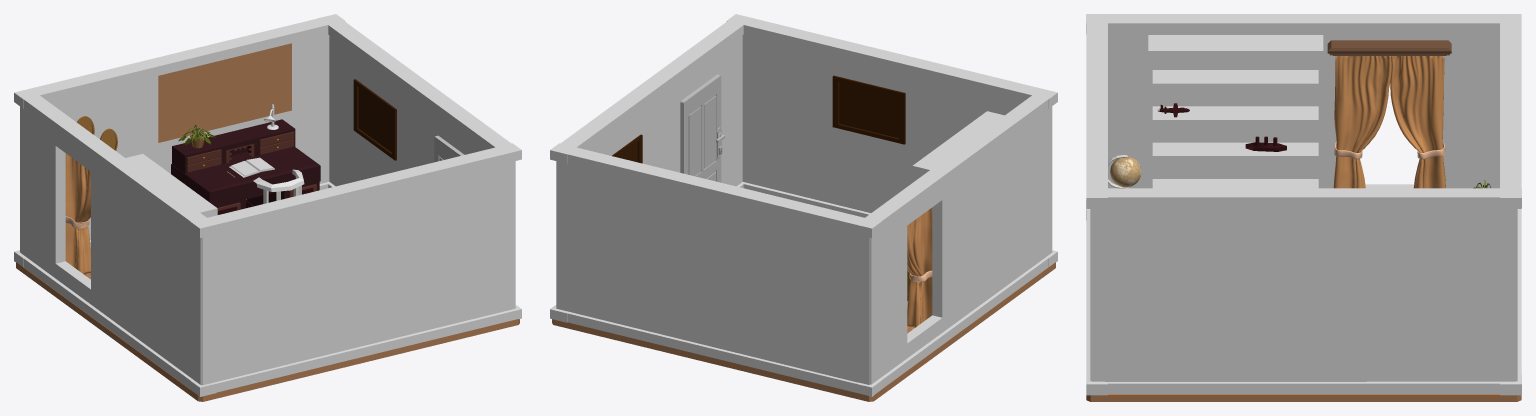
File: 6th_Room.fbx
3 views of the same model, side by side, from view 1: azimuth 30°, elevation 25°; view 2: azimuth 150°, elevation 25°; view 3: azimuth 270°, elevation 25° (orthographic). The views are drawn at different scales.
Parts seen in each view (by area): view 1: 6_Wall4, 6_Wall1, 6_Wall2, 6_Wall3, 6_map, 6_desk, 6_Floor, 6_Curtains, 6_picFrame 4, 6_bookshelf, 6_chair, 6_book (+2 smaller); view 2: 6_Wall2, 6_Wall4, 6_Wall1, 6_Wall3, 6_picFrame 3, 6_Door, 6_Floor, 6_Curtains, 6_bookshelf, 6_picFrame 4; view 3: 6_Wall3, 6_bookshelf, 6_Wall1, 6_Curtains, 6_Wall2, 6_Wall4, 6_Floor, 6_globe, 6_ship.
Part boxes in pixels (x1=…): 6_Wall4: x1=190, y1=143, x2=521, y2=396; 6_Wall1: x1=14, y1=88, x2=216, y2=396; 6_Wall2: x1=14, y1=14, x2=345, y2=267; 6_Wall3: x1=328, y1=21, x2=511, y2=187; 6_map: x1=158, y1=43, x2=291, y2=142; 6_desk: x1=171, y1=119, x2=320, y2=214; 6_Floor: x1=16, y1=249, x2=519, y2=401; 6_Curtains: x1=65, y1=153, x2=90, y2=275; 6_picFrame 4: x1=353, y1=79, x2=396, y2=160; 6_bookshelf: x1=126, y1=154, x2=217, y2=217; 6_chair: x1=253, y1=169, x2=304, y2=203; 6_book: x1=229, y1=157, x2=274, y2=177; 6_Wall2: x1=550, y1=143, x2=881, y2=396; 6_Wall4: x1=726, y1=14, x2=1057, y2=267; 6_Wall1: x1=856, y1=88, x2=1057, y2=389; 6_Wall3: x1=551, y1=21, x2=743, y2=322; 6_picFrame 3: x1=832, y1=75, x2=905, y2=144; 6_Door: x1=680, y1=74, x2=724, y2=182; 6_Floor: x1=552, y1=262, x2=1055, y2=401; 6_Curtains: x1=907, y1=207, x2=932, y2=328; 6_bookshelf: x1=912, y1=111, x2=1004, y2=182; 6_picFrame 4: x1=612, y1=134, x2=642, y2=163; 6_Wall3: x1=1092, y1=188, x2=1521, y2=394; 6_bookshelf: x1=1148, y1=35, x2=1323, y2=188; 6_Wall1: x1=1086, y1=14, x2=1521, y2=220; 6_Curtains: x1=1327, y1=40, x2=1451, y2=188; 6_Wall2: x1=1500, y1=23, x2=1521, y2=395; 6_Wall4: x1=1086, y1=23, x2=1107, y2=395; 6_Floor: x1=1086, y1=394, x2=1521, y2=401; 6_globe: x1=1110, y1=156, x2=1141, y2=187; 6_ship: x1=1245, y1=136, x2=1286, y2=151.
Size of the model in its own units: 1000 by 519 by 1001.
